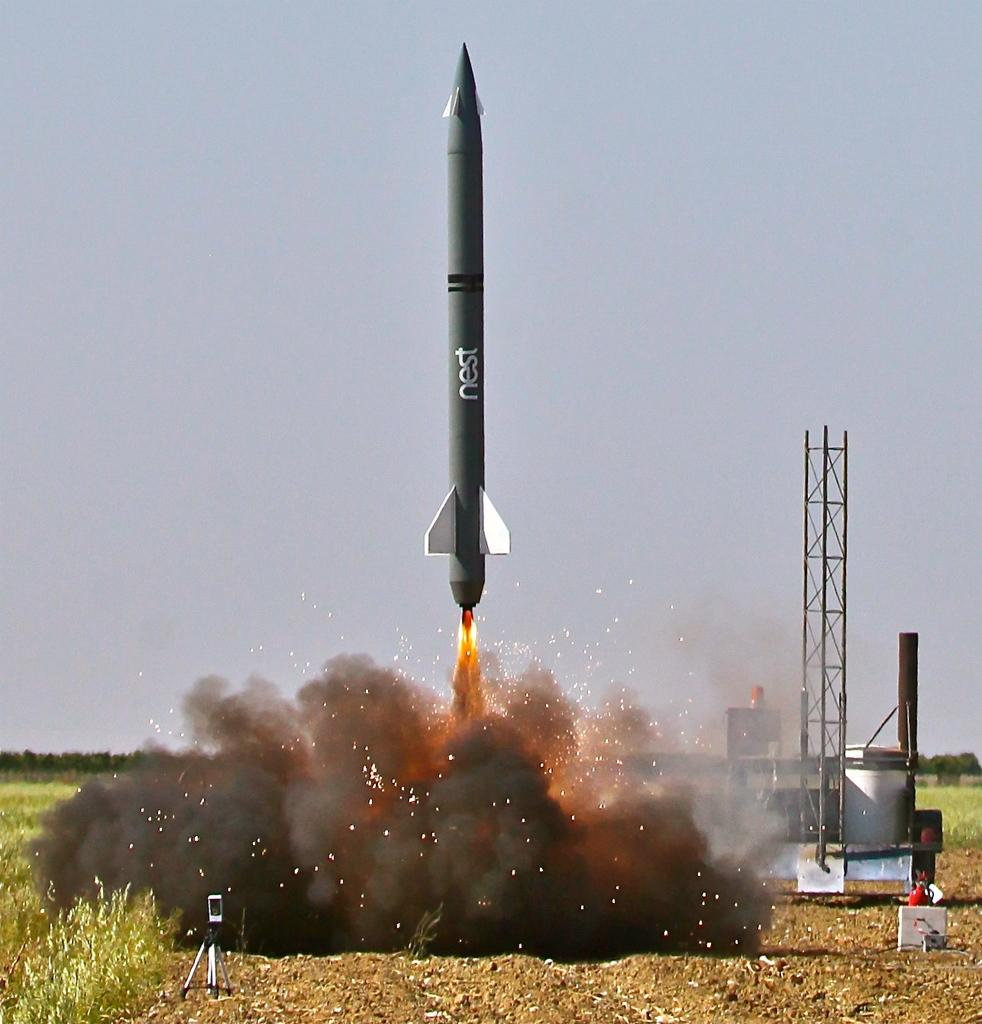Missile: (423, 40, 515, 611)
